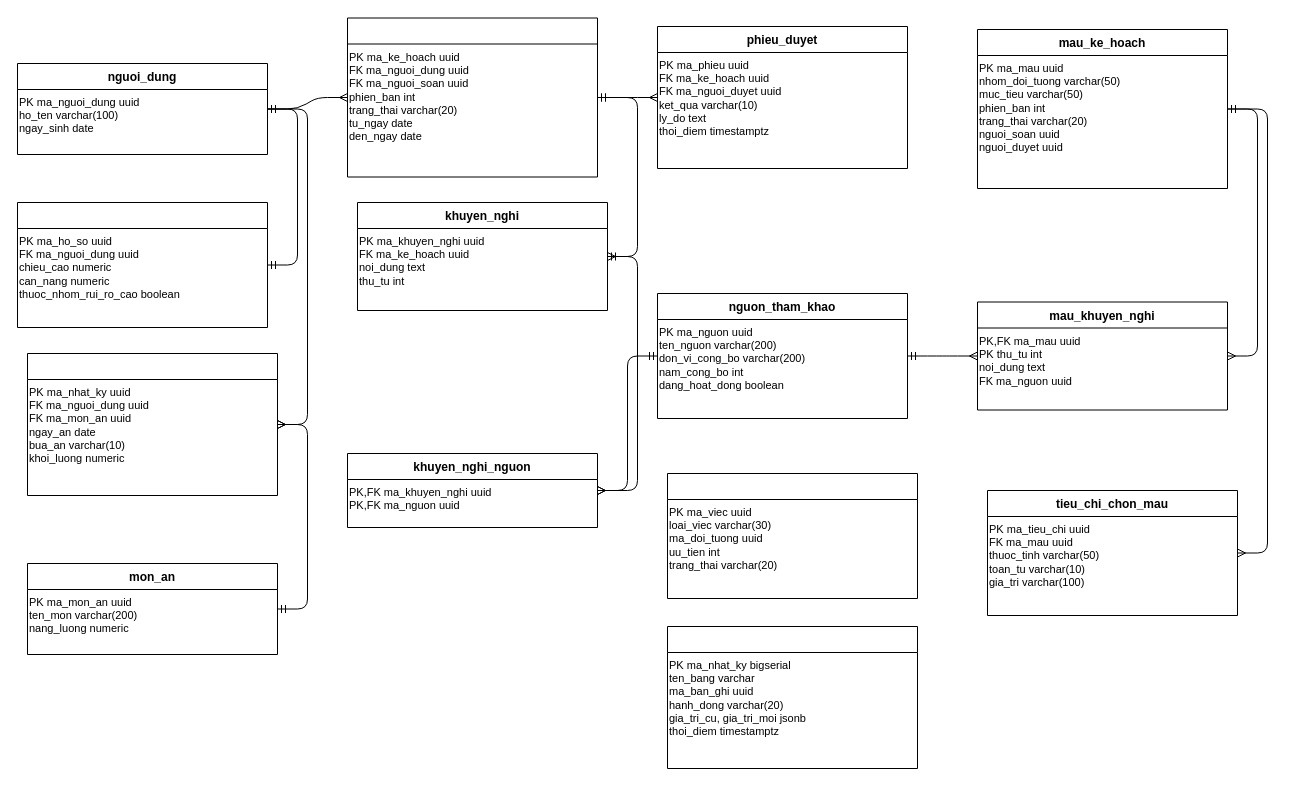
Image size: 1294x786. Some labels were removed from this diagram. The shapes that lost their labels are listed below. From the top down, each one's box as (x1, y1, x2, y2) in pixels, then its label:
(346, 17, 598, 177): ke_hoach_dinh_duong
(16, 202, 268, 328): ho_so_dinh_duong
(26, 352, 278, 496): nhat_ky_an_uong
(666, 472, 918, 598): hang_doi_tu_dong
(666, 626, 918, 768): nhat_ky_hieu_chinh
